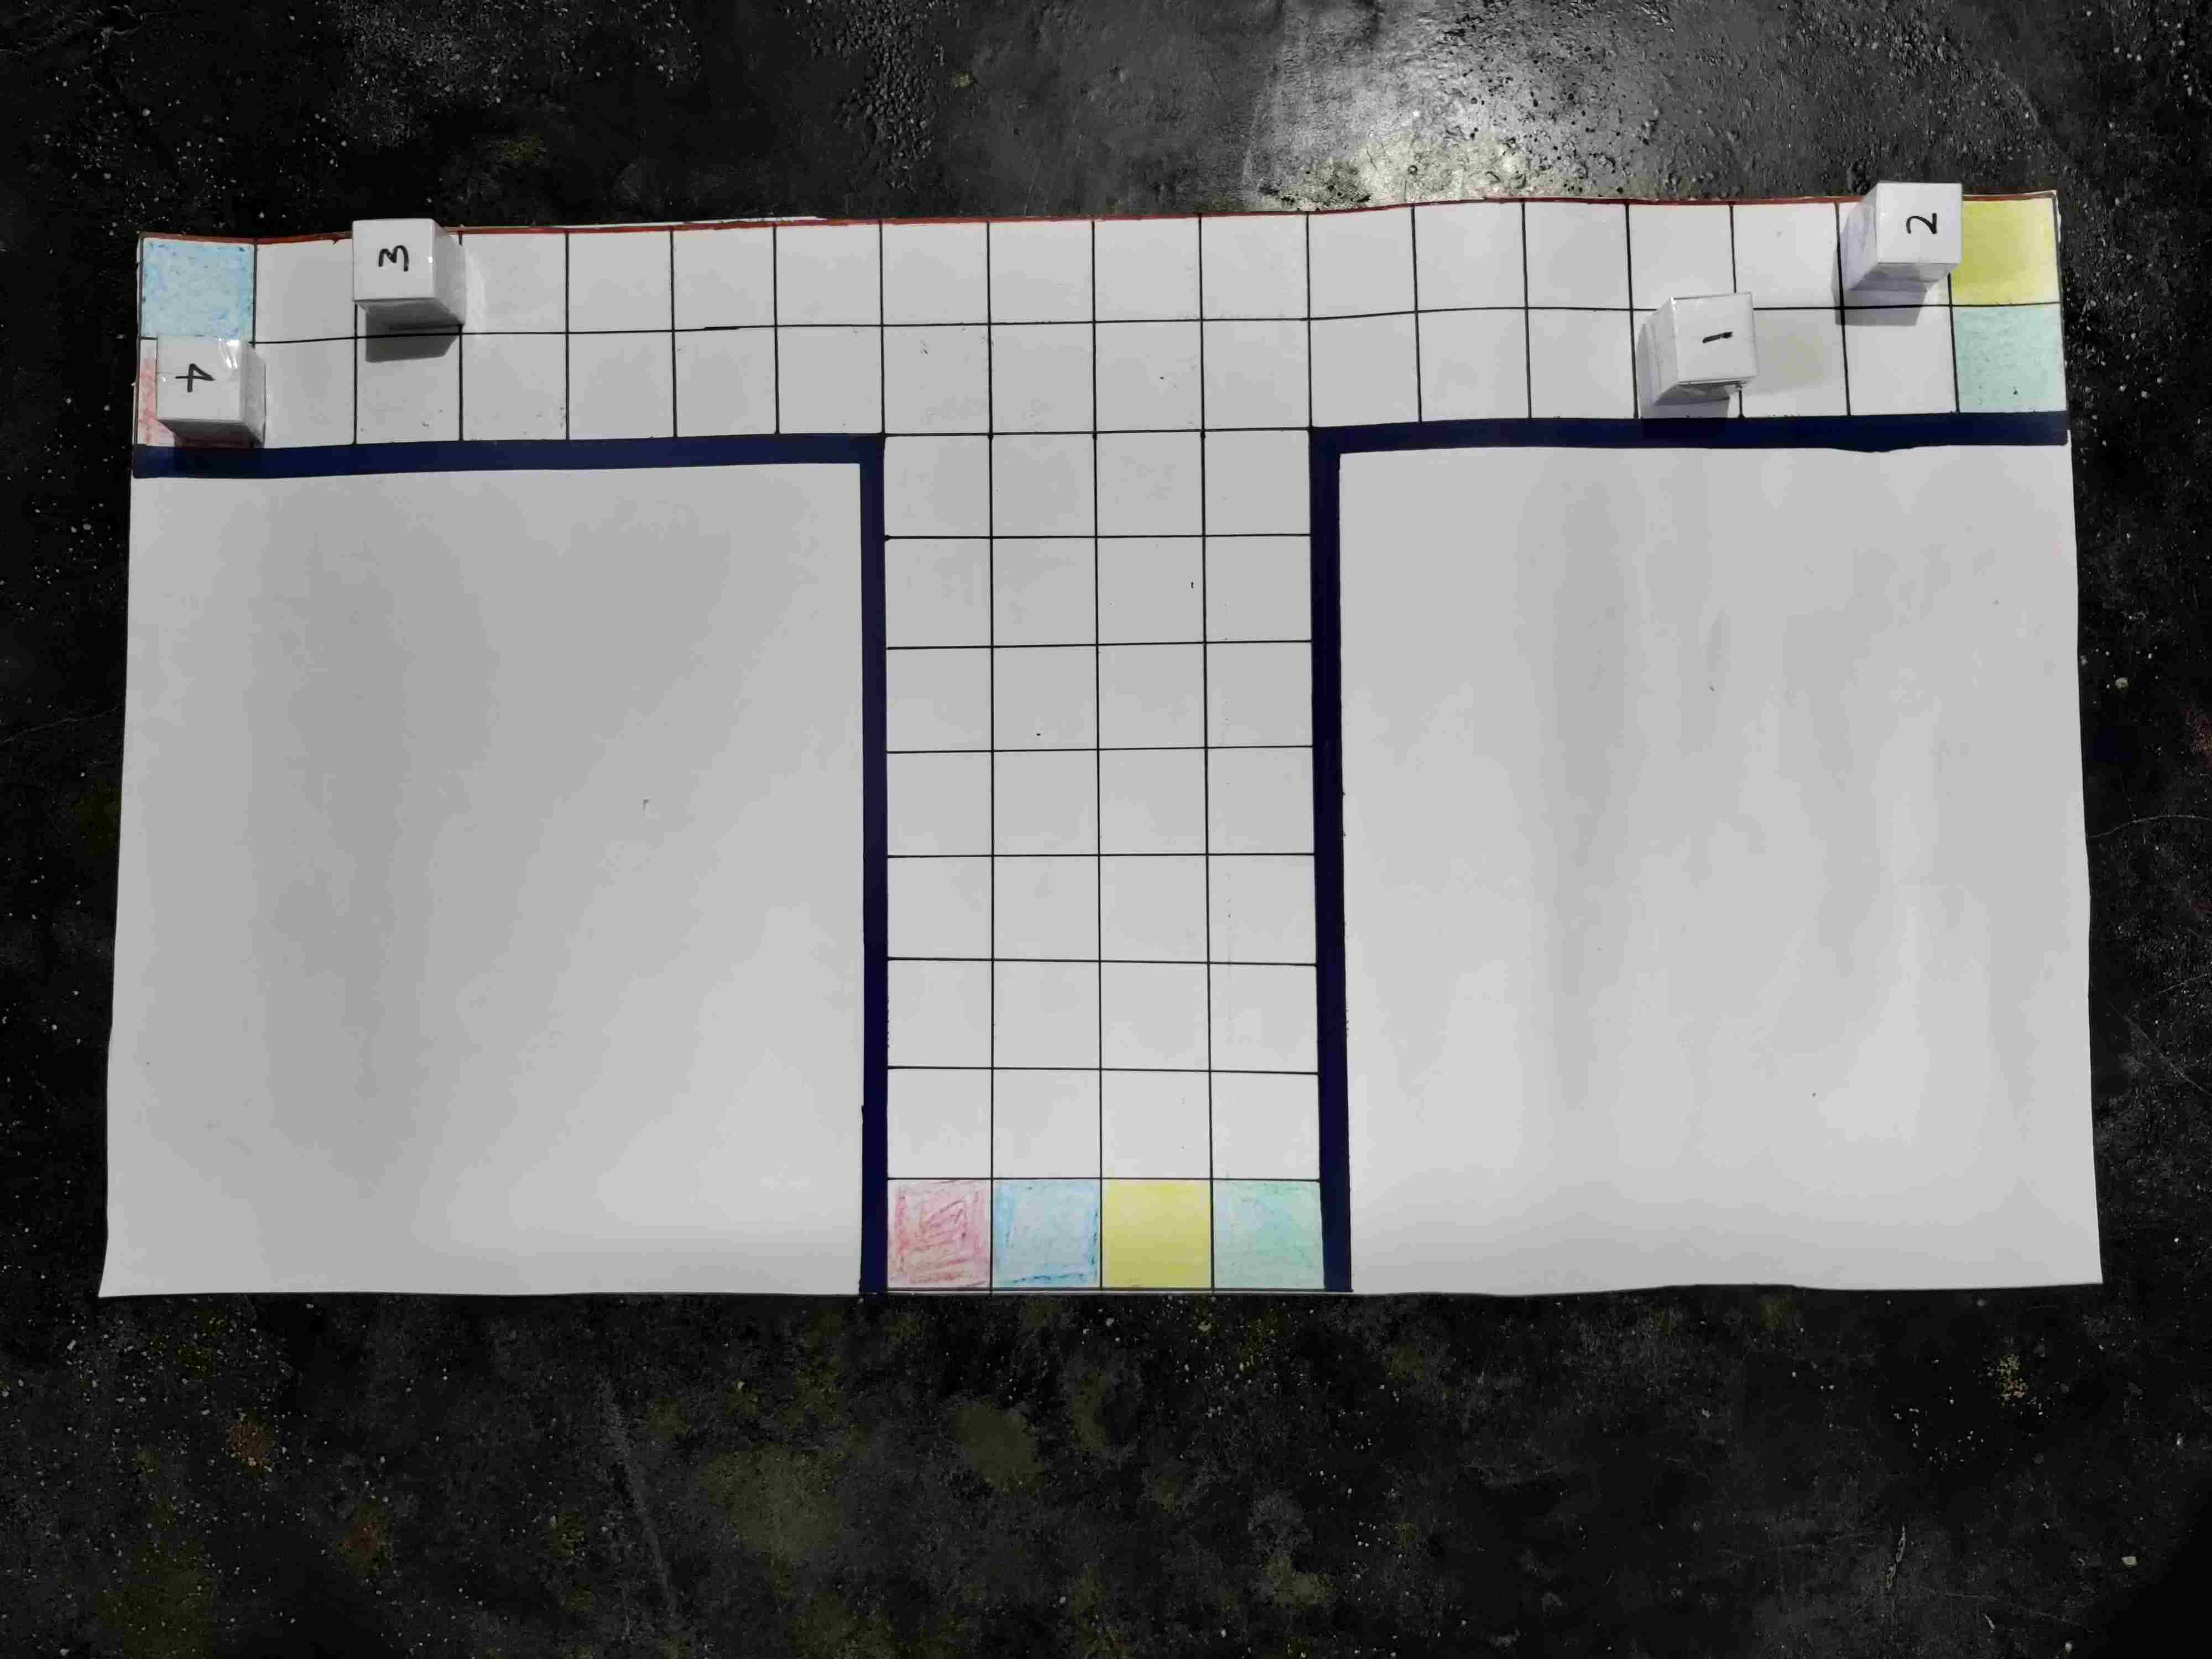arena: (3, 369, 1958, 1431)
bot: (1186, 1237, 1271, 1321), (1787, 1349, 1869, 1431), (197, 1385, 282, 1464), (416, 1262, 496, 1344)
